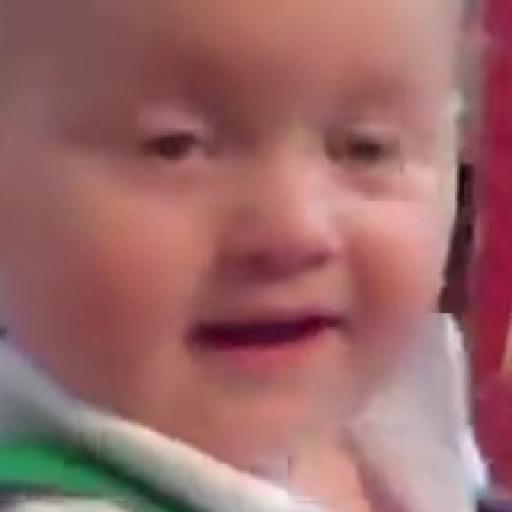Autism: (11, 4, 512, 482)
